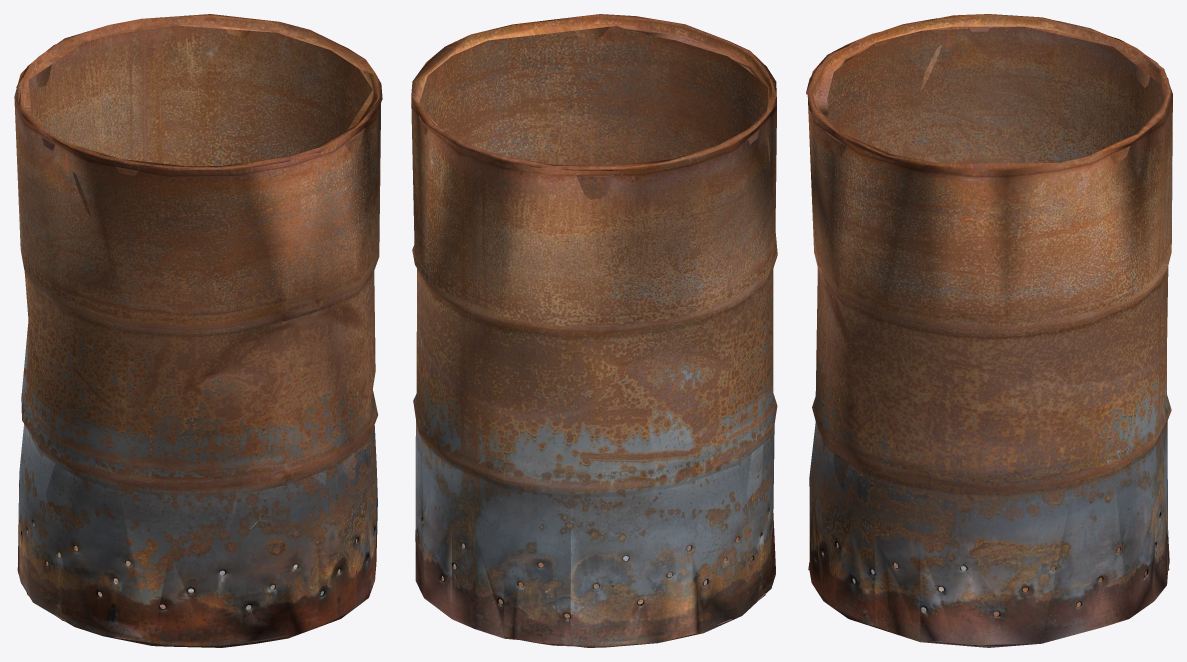
Rendered from barrelStove_hq.glb.
3 views of the same model, side by side, from view 1: azimuth 30°, elevation 25°; view 2: azimuth 150°, elevation 25°; view 3: azimuth 270°, elevation 25° (orthographic).
Parts seen in each view (by area): view 1: barrel_stove; view 2: barrel_stove; view 3: barrel_stove.
Part boxes in pixels (left/top/right/bottom): barrel_stove: left=14, top=14, right=382, bottom=647; barrel_stove: left=411, top=14, right=777, bottom=647; barrel_stove: left=806, top=14, right=1172, bottom=647.
Bounding box in the file's own units: 0.5899 × 0.8556 × 0.5906.
Materials: 1 (1 with a texture image).
